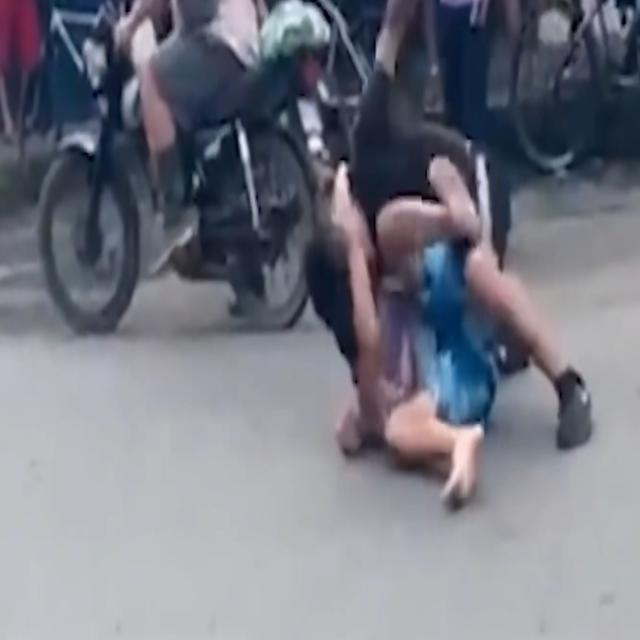fight: (313, 140, 595, 504)
